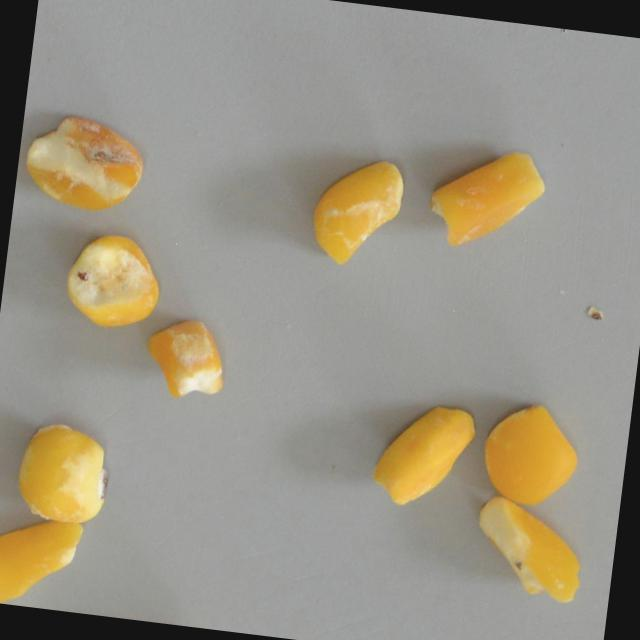dañado: (16, 105, 152, 219), (366, 401, 481, 512)
estandar: (473, 394, 587, 513), (0, 508, 92, 613)
pelicula: (417, 138, 558, 260), (301, 149, 409, 272), (137, 310, 231, 408)
punto_negro: (464, 490, 591, 606), (57, 227, 167, 338), (8, 416, 118, 527)
